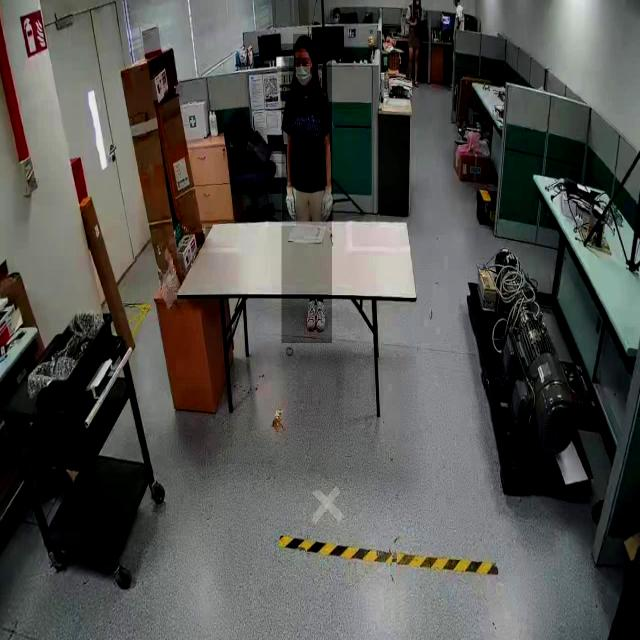face_mask: (289, 58, 315, 89)
hand_glove: (281, 182, 297, 227), (318, 180, 334, 224)
head_nohelmet: (293, 34, 315, 53)
person: (282, 44, 332, 344)
shoes: (313, 297, 327, 333), (304, 296, 316, 331)
